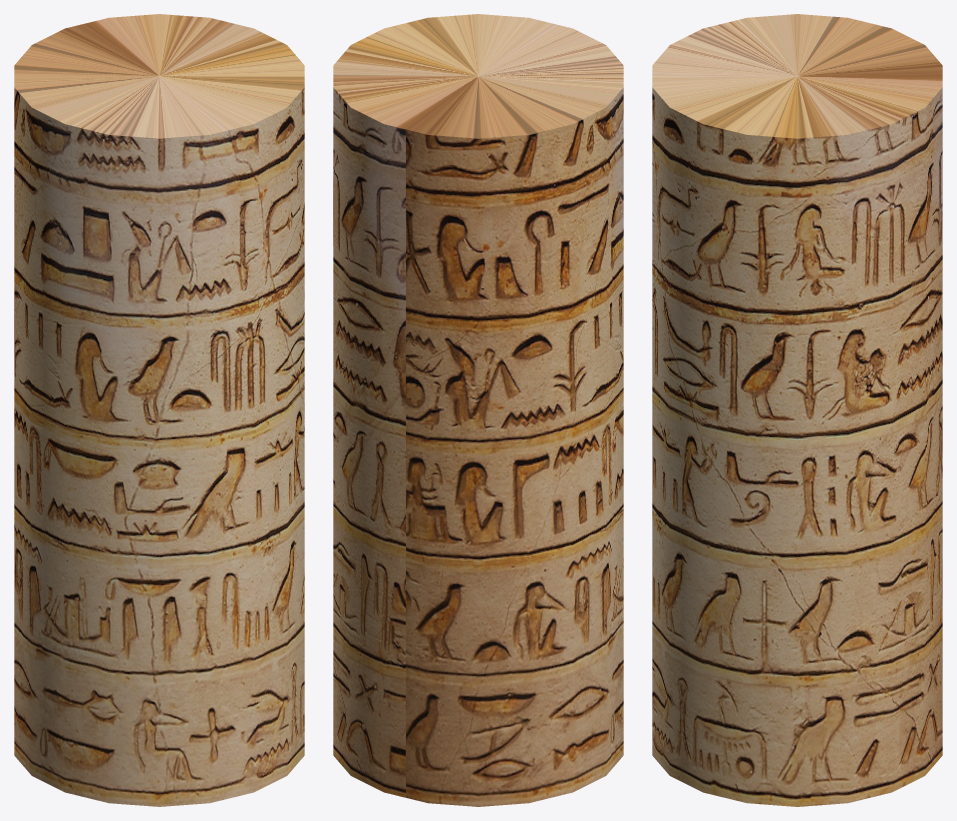
Rendered from egypt_column.FBX.
3 renders of one model, left to right at view 1: azimuth 30°, elevation 25°; view 2: azimuth 150°, elevation 25°; view 3: azimuth 270°, elevation 25°, orthographic.
Parts seen in each view (by area): view 1: Cylinder001; view 2: Cylinder001; view 3: Cylinder001.
Boxes of the visible parts, x1,y1,x2,y2 form: Cylinder001: [14, 14, 304, 806]; Cylinder001: [333, 14, 623, 806]; Cylinder001: [652, 14, 942, 806].
Bounding box in the file's own units: 400 × 1000 × 394.
